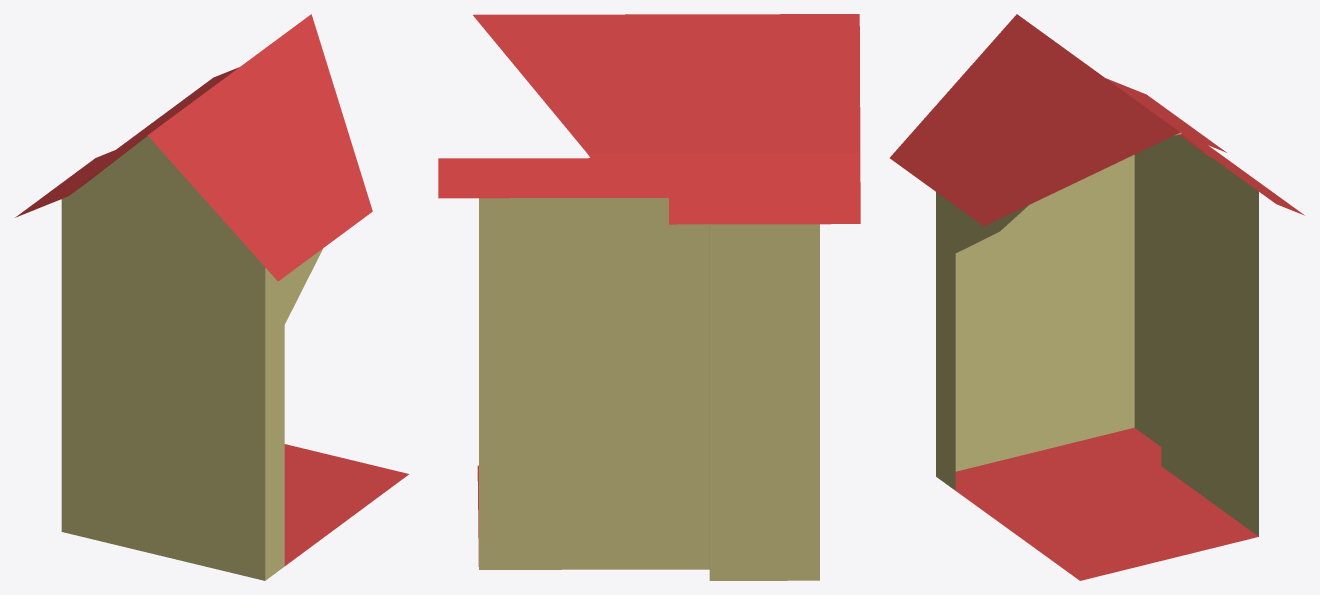
The picture shows the model from 3 angles, left to right: view 1: azimuth 30°, elevation 25°; view 2: azimuth 150°, elevation 25°; view 3: azimuth 270°, elevation 25°; orthographic projection. The views are drawn at different scales.
Bounding box in the file's own units: 12.02 × 12.22 × 13.81.
